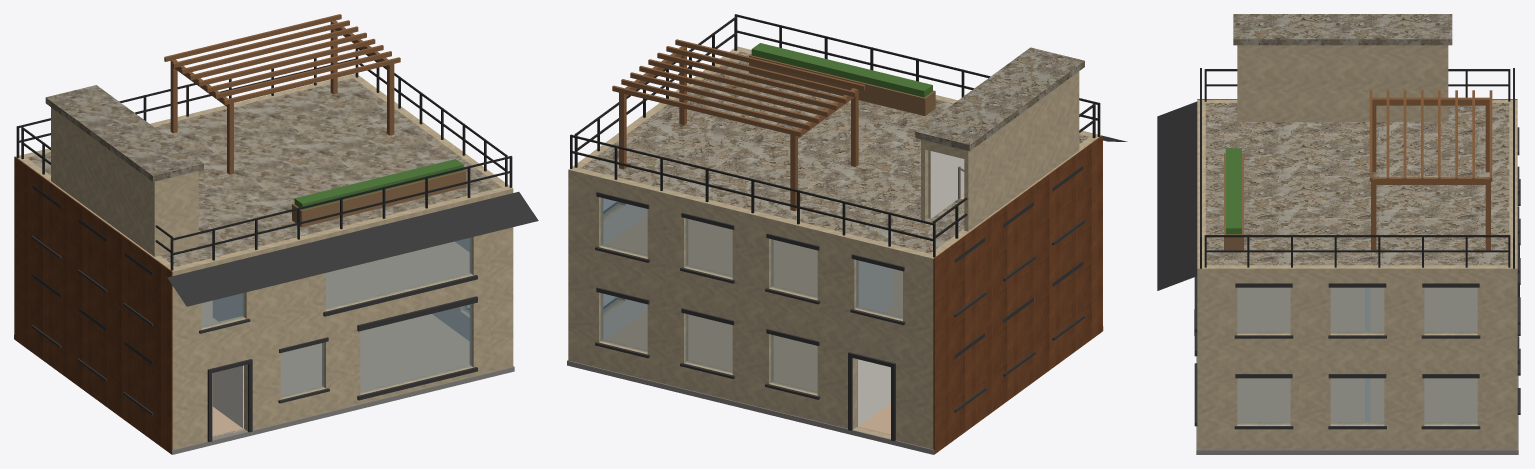
The model's file is cr-desert-modern.towns-v1.lod0.glb.
3 renders of one model, left to right at view 1: azimuth 30°, elevation 25°; view 2: azimuth 150°, elevation 25°; view 3: azimuth 270°, elevation 25°, orthographic. The views are drawn at different scales.
Parts seen in each view (by area): view 1: cr-desert-modern; view 2: cr-desert-modern; view 3: cr-desert-modern.
Part boxes in pixels (x1,y1,x2,y2): cr-desert-modern: [14, 14, 538, 454]; cr-desert-modern: [567, 14, 1127, 454]; cr-desert-modern: [1157, 14, 1520, 454].
Bounding box in the file's own units: 12.4 × 8.95 × 10.89.
7 materials, 3 textured.
